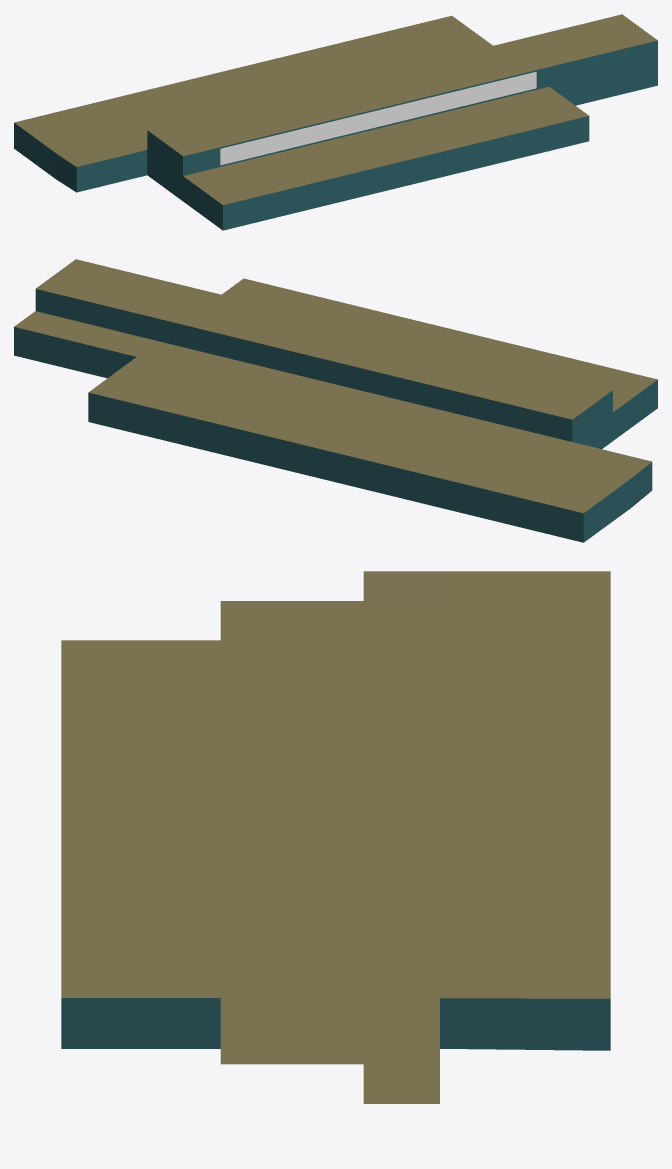
Rendered from office_layout.fbx.
3 renders of one model, top to bottom at view 1: azimuth 30°, elevation 25°; view 2: azimuth 150°, elevation 25°; view 3: azimuth 270°, elevation 25°, orthographic. The views are drawn at different scales.
Visible parts, largest first — view 1: polySurface42; view 2: polySurface42; view 3: polySurface42.
Boxes of the visible parts, x1,y1,x2,y2 form: polySurface42: [14, 14, 657, 230]; polySurface42: [14, 259, 657, 542]; polySurface42: [61, 571, 610, 1103].
Size of the model in its own units: 8696 by 701 by 3786.
